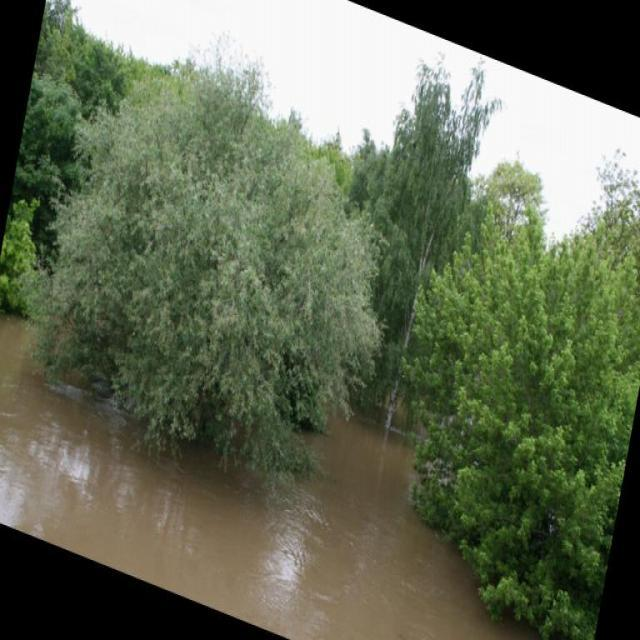flood: (0, 269, 617, 639)
